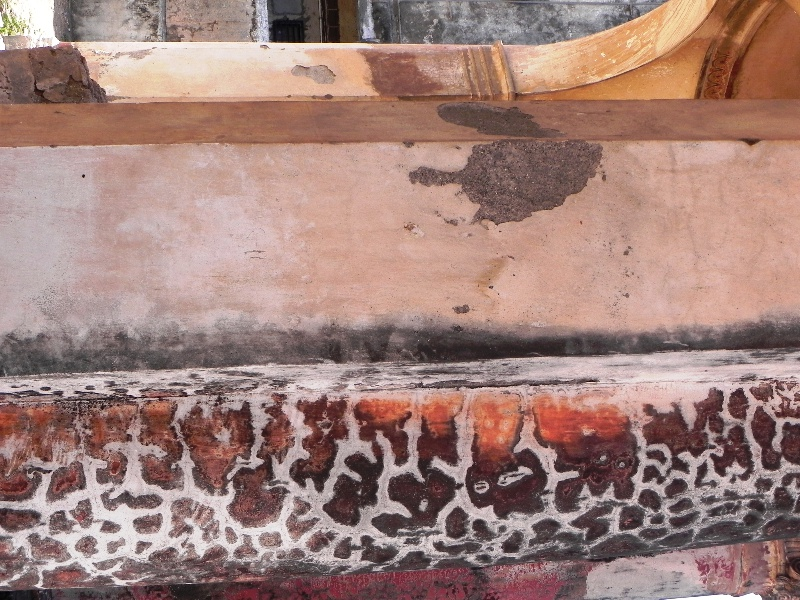Spalling: (399, 98, 619, 229)
